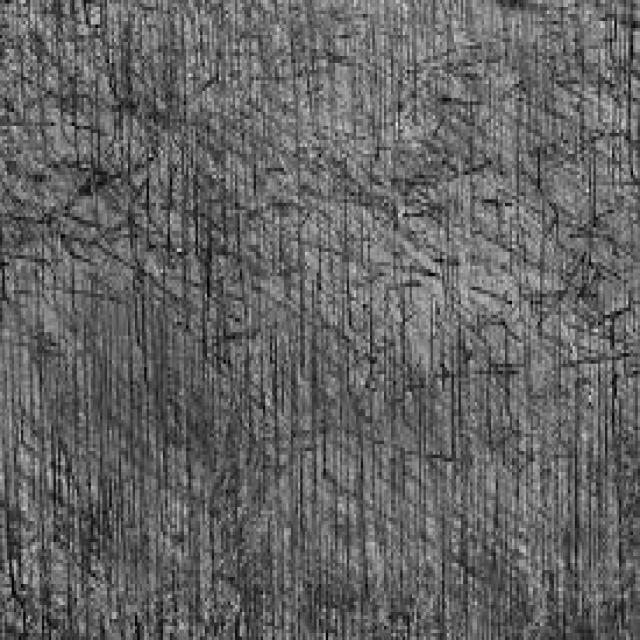Forest Fire: (156, 146, 478, 419)
